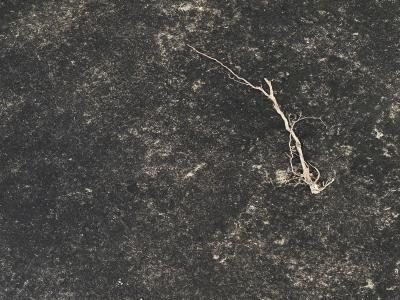Root: (188, 45, 334, 193)
